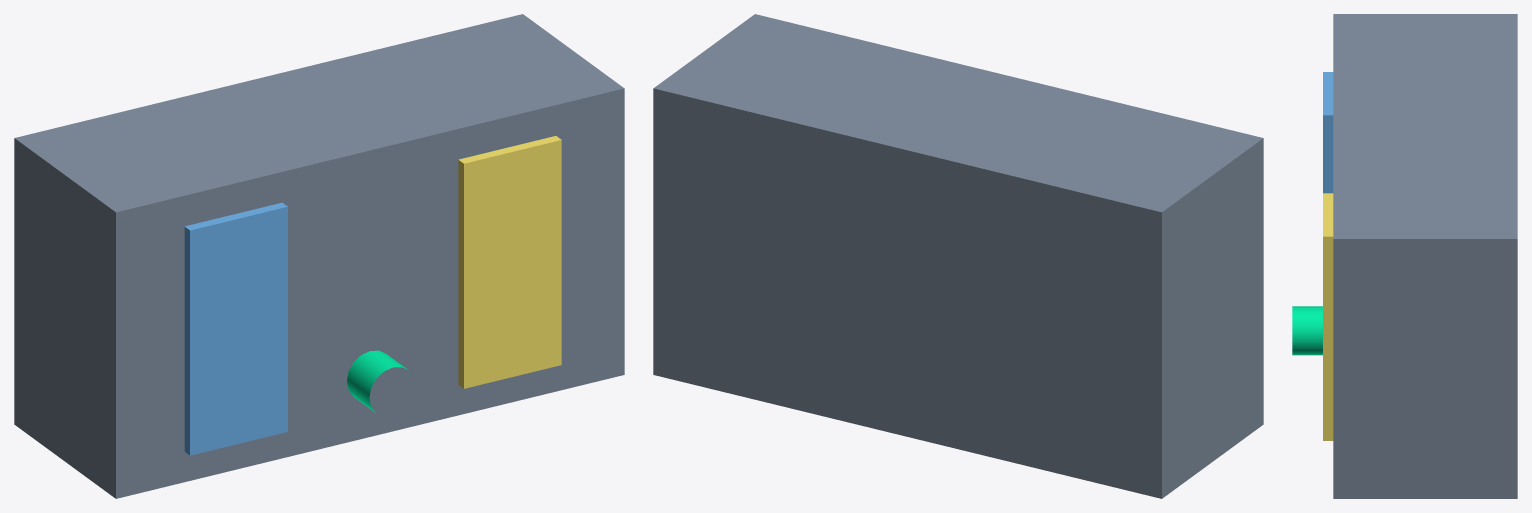
The model's file is plc_ladder_logic_simulator.glb.
3 views of the same model, side by side, from view 1: azimuth 30°, elevation 25°; view 2: azimuth 150°, elevation 25°; view 3: azimuth 270°, elevation 25° (orthographic). The views are drawn at different scales.
Parts seen in each view (by area): view 1: IndustrialPLCRackMainframe, DigitalInputOptoisolatorModule, RelayOutputTerminalStrip, LadderLogicProgrammingPort; view 2: IndustrialPLCRackMainframe; view 3: IndustrialPLCRackMainframe, RelayOutputTerminalStrip, LadderLogicProgrammingPort, DigitalInputOptoisolatorModule.
Boxes of the visible parts, x1=… form: IndustrialPLCRackMainframe: x1=14, y1=14, x2=624, y2=498; DigitalInputOptoisolatorModule: x1=184, y1=202, x2=287, y2=455; RelayOutputTerminalStrip: x1=458, y1=136, x2=561, y2=388; LadderLogicProgrammingPort: x1=347, y1=350, x2=407, y2=412; IndustrialPLCRackMainframe: x1=653, y1=14, x2=1263, y2=498; IndustrialPLCRackMainframe: x1=1333, y1=14, x2=1517, y2=498; RelayOutputTerminalStrip: x1=1323, y1=193, x2=1333, y2=440; LadderLogicProgrammingPort: x1=1292, y1=306, x2=1322, y2=355; DigitalInputOptoisolatorModule: x1=1323, y1=72, x2=1333, y2=193.
Bounding box in the file's own units: 1.3 × 0.7 × 0.55.
